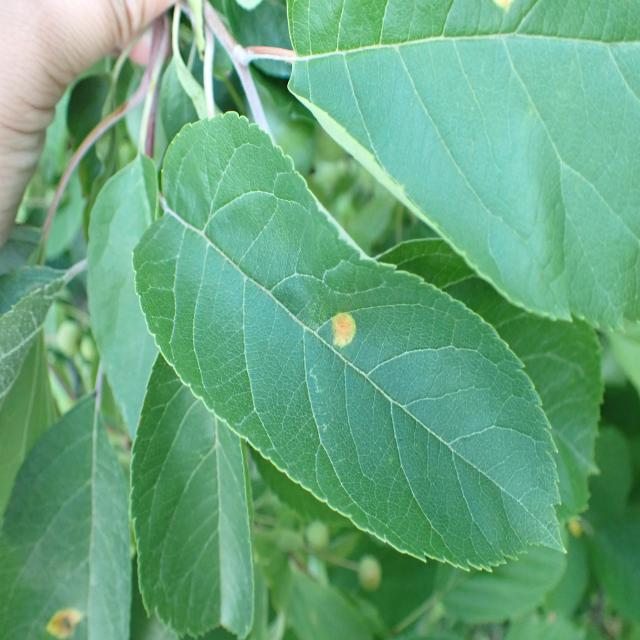rust: (130, 110, 565, 576)
